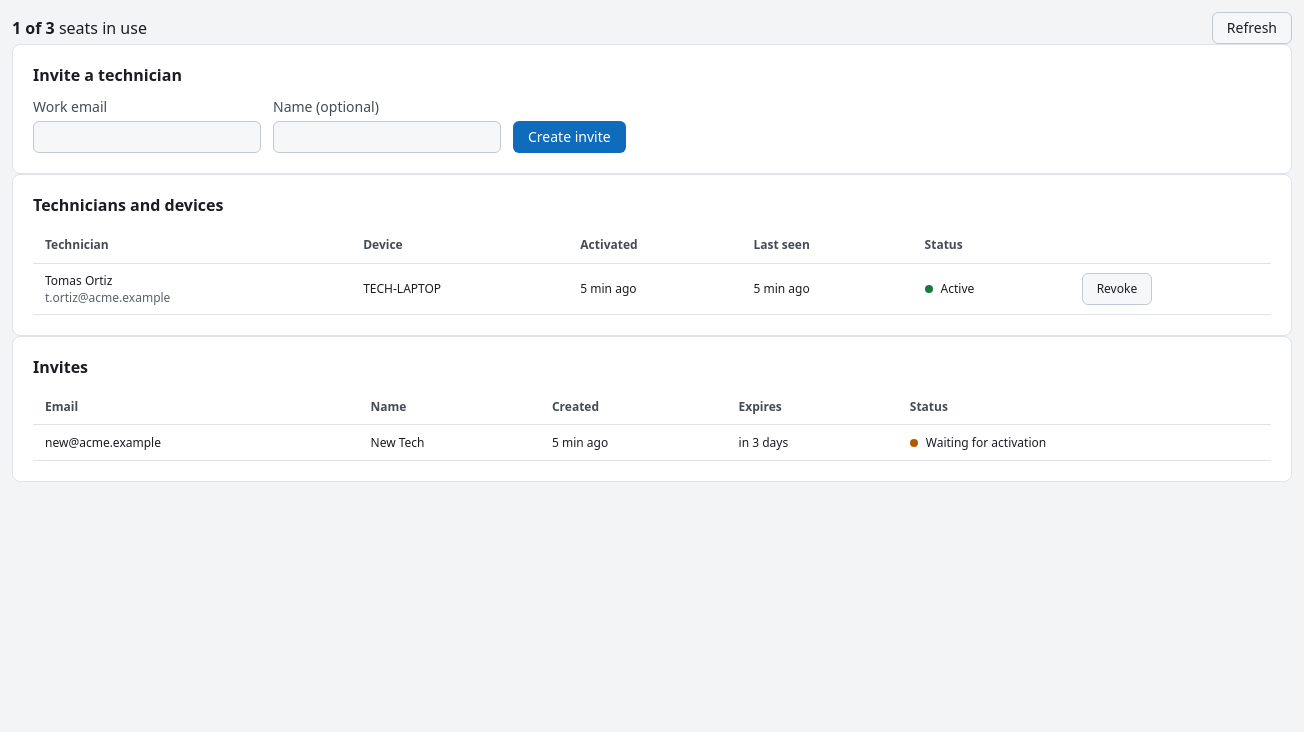
TechniciansPage › asks for an address before it creates an invite
Type "not an address" into the field labelled "Work email" at (147, 137), box [33, 121, 261, 153]
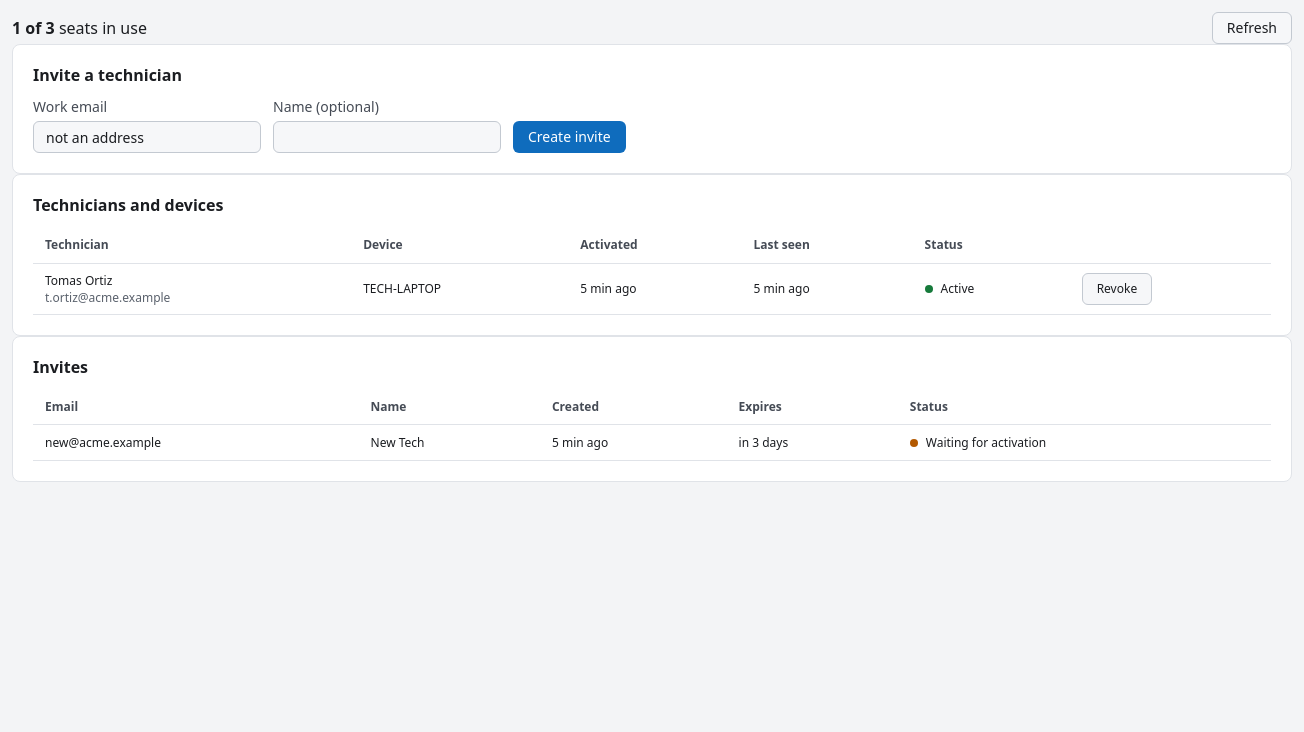
Click the button "Create invite" at (569, 137), box [513, 121, 626, 153]
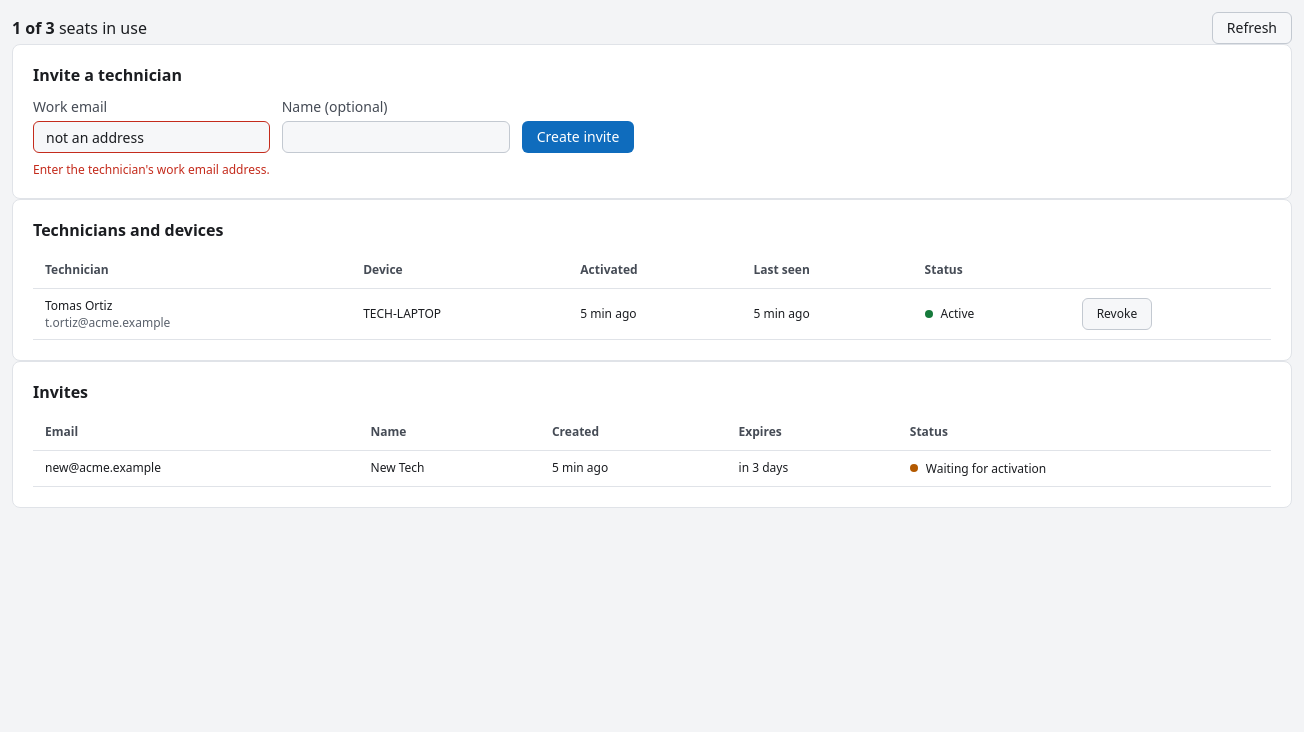
Expected: the text "Enter the technician's work email address." is shown, [33, 161, 270, 178]
